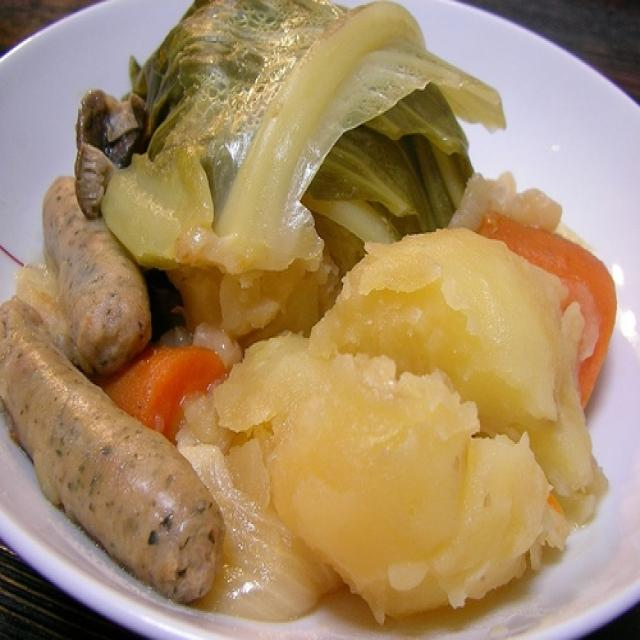汤锅炖物: (8, 5, 626, 621)
